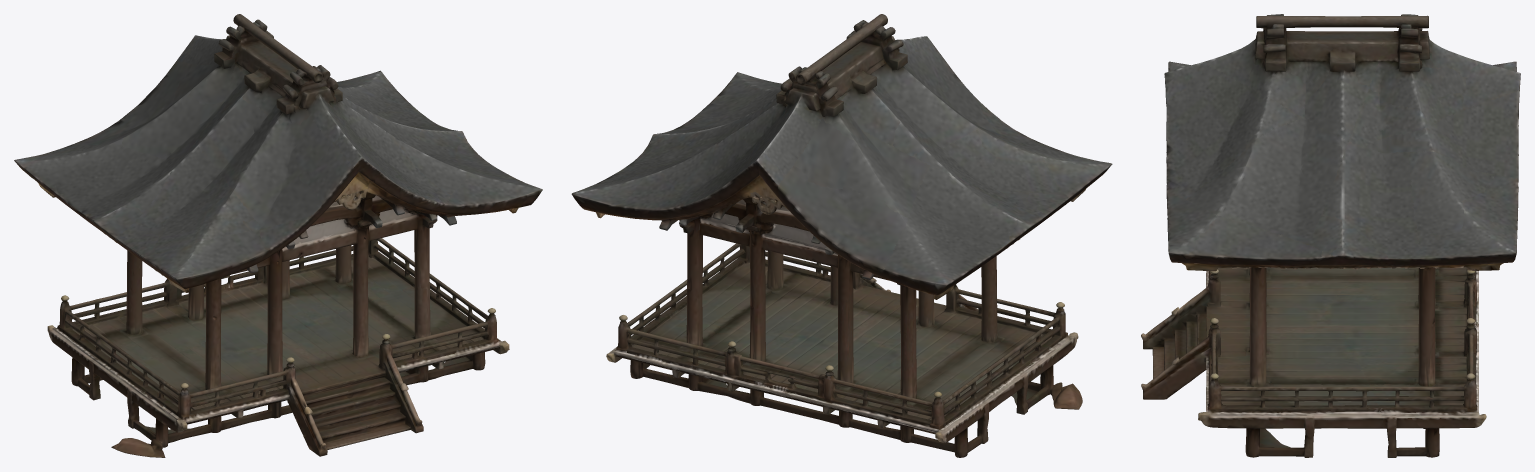
Rendered from shrine.glb.
3 views of the same model, side by side, from view 1: azimuth 30°, elevation 25°; view 2: azimuth 150°, elevation 25°; view 3: azimuth 270°, elevation 25° (orthographic). The views are drawn at different scales.
Parts seen in each view (by area): view 1: tripo_node_2e96b003-3eca-4e2f-86f2-2754cf64df05; view 2: tripo_node_2e96b003-3eca-4e2f-86f2-2754cf64df05; view 3: tripo_node_2e96b003-3eca-4e2f-86f2-2754cf64df05.
Part boxes in pixels (x1,y1,x2,y2): tripo_node_2e96b003-3eca-4e2f-86f2-2754cf64df05: [14, 14, 542, 457]; tripo_node_2e96b003-3eca-4e2f-86f2-2754cf64df05: [571, 14, 1112, 457]; tripo_node_2e96b003-3eca-4e2f-86f2-2754cf64df05: [1141, 14, 1520, 457].
Size of the model in its own units: 1 by 0.8298 by 0.8009.
1 material, 1 textured.
